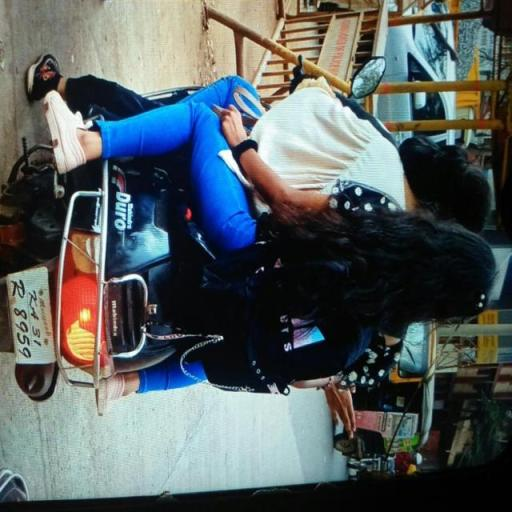tripple riding: (237, 49, 503, 437)
